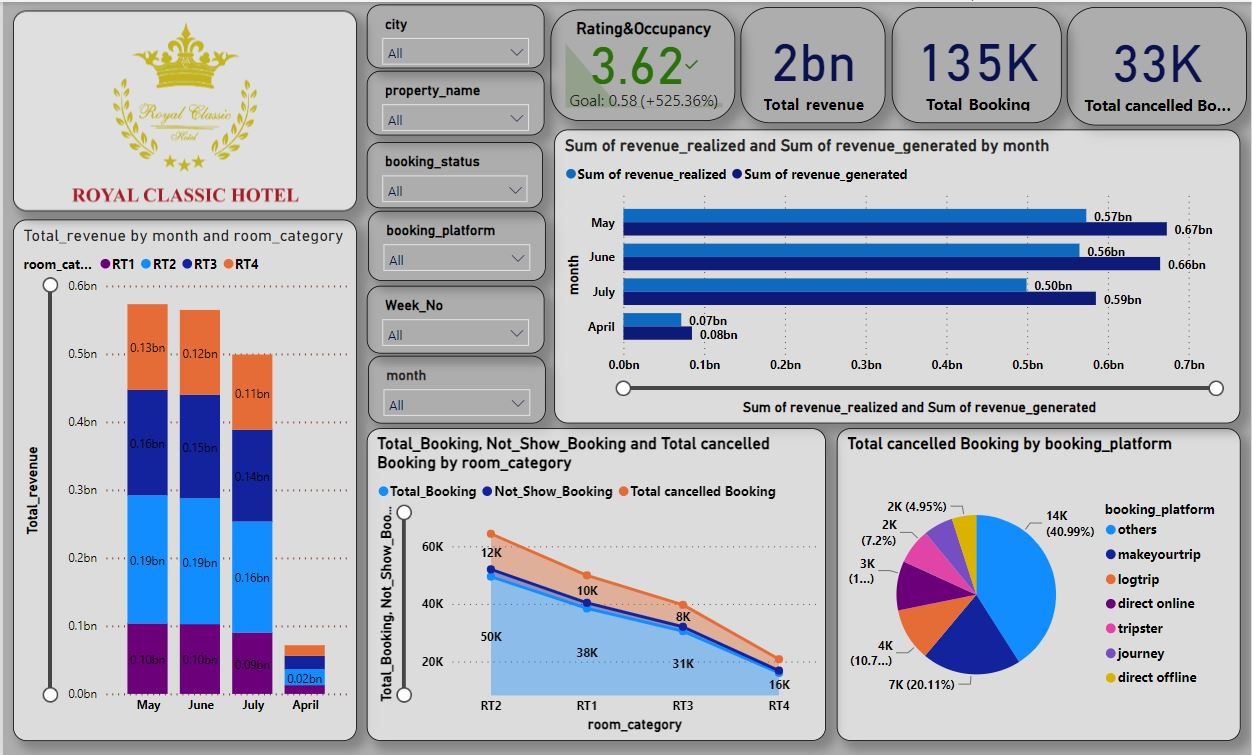

The dashboard page shown, as its layout file describes it:
{"tool":"powerbi","page":{"name":"Page 1","canvas":[1280,776],"ordinal":0},"visuals":[{"type":"card","fields":{"Values":["fact_bookings.Total_Booking"]},"box":[913.2,5.1,174.4,119.3],"z":4000},{"type":"pieChart","fields":{"Category":["fact_bookings.booking_platform"],"Y":["fact_bookings.Total cancelled Booking"]},"box":[855.5,437.4,414.3,320.7],"z":6000},{"type":"slicer","fields":{"Values":["dim_hotels.city"]},"box":[373.2,2.6,182.1,65.4],"z":7000},{"type":"slicer","fields":{"Values":["dim_hotels.property_name"]},"box":[373.6,70.8,182.3,66.3],"z":8000},{"type":"slicer","fields":{"Values":["fact_bookings.booking_status"]},"box":[373.6,143.1,180.8,67.8],"z":9000},{"type":"slicer","fields":{"Values":["fact_bookings.booking_platform"]},"box":[375.1,213.9,182.3,72.3],"z":10000},{"type":"slicer","fields":{"Values":["fact_bookings.month"]},"box":[375.1,363.1,182.3,69.3],"z":11000},{"type":"slicer","fields":{"Values":["fact_bookings.Week_No"]},"box":[373.6,290.8,182.3,69.3],"z":12000},{"type":"card","fields":{"Values":["fact_bookings.Total_revenue"]},"box":[751.6,5.1,157.8,119.3],"z":13000},{"type":"card","fields":{"Values":["fact_bookings.Total cancelled Booking"]},"box":[1091.5,5.1,184.7,121.9],"z":14000},{"type":"kpi","title":"Rating&Occupancy","fields":{"TrendLine":["fact_bookings.month"],"Indicator":["fact_bookings.Avg_Rating"],"Goal":["fact_bookings.Occupancy"]},"box":[559.2,7.7,189.8,114.2],"z":15000},{"type":"columnChart","fields":{"Category":["fact_bookings.month"],"Y":["fact_bookings.Total_revenue"],"Series":["fact_bookings.room_category"]},"box":[10.3,223.2,352.7,534.9],"z":16000},{"type":"clusteredBarChart","fields":{"Y":["Sum(fact_bookings.revenue_realized)","Sum(fact_bookings.revenue_generated)"],"Category":["fact_bookings.month"]},"box":[565.6,130.8,704.2,301.4],"z":16001},{"type":"stackedAreaChart","fields":{"Category":["fact_bookings.room_category"],"Y":["fact_bookings.Total_Booking","fact_bookings.Not_Show_Booking","fact_bookings.Total cancelled Booking"]},"box":[373.6,436.9,471.6,320.9],"z":16002},{"type":"image","box":[10.3,9,352.7,205.2],"z":16003}]}

Visuals, with their boxes in screenshot pixels (x1, y1, x2, y2), scaled from the page's 1280x776 canvas onto the 1252x755 screenshot:
card - fact_bookings.Total_Booking: x1=893 y1=5 x2=1064 y2=121
pieChart - fact_bookings.booking_platform x fact_bookings.Total cancelled Booking: x1=837 y1=426 x2=1242 y2=738
slicer - dim_hotels.city: x1=365 y1=3 x2=543 y2=66
slicer - dim_hotels.property_name: x1=365 y1=69 x2=544 y2=133
slicer - fact_bookings.booking_status: x1=365 y1=139 x2=542 y2=205
slicer - fact_bookings.booking_platform: x1=367 y1=208 x2=545 y2=278
slicer - fact_bookings.month: x1=367 y1=353 x2=545 y2=421
slicer - fact_bookings.Week_No: x1=365 y1=283 x2=544 y2=350
card - fact_bookings.Total_revenue: x1=735 y1=5 x2=890 y2=121
card - fact_bookings.Total cancelled Booking: x1=1068 y1=5 x2=1248 y2=124
"Rating&Occupancy" kpi: x1=547 y1=7 x2=733 y2=119
columnChart - fact_bookings.month x fact_bookings.Total_revenue: x1=10 y1=217 x2=355 y2=738
clusteredBarChart - Sum(fact_bookings.revenue_realized) x Sum(fact_bookings.revenue_generated): x1=553 y1=127 x2=1242 y2=421
stackedAreaChart - fact_bookings.room_category x fact_bookings.Total_Booking: x1=365 y1=425 x2=827 y2=737
image: x1=10 y1=9 x2=355 y2=208
